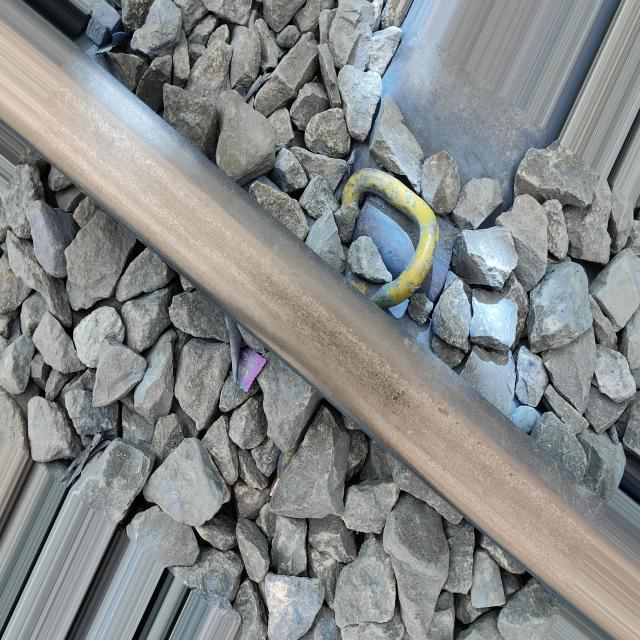Good Fasteners: (295, 143, 489, 342)
